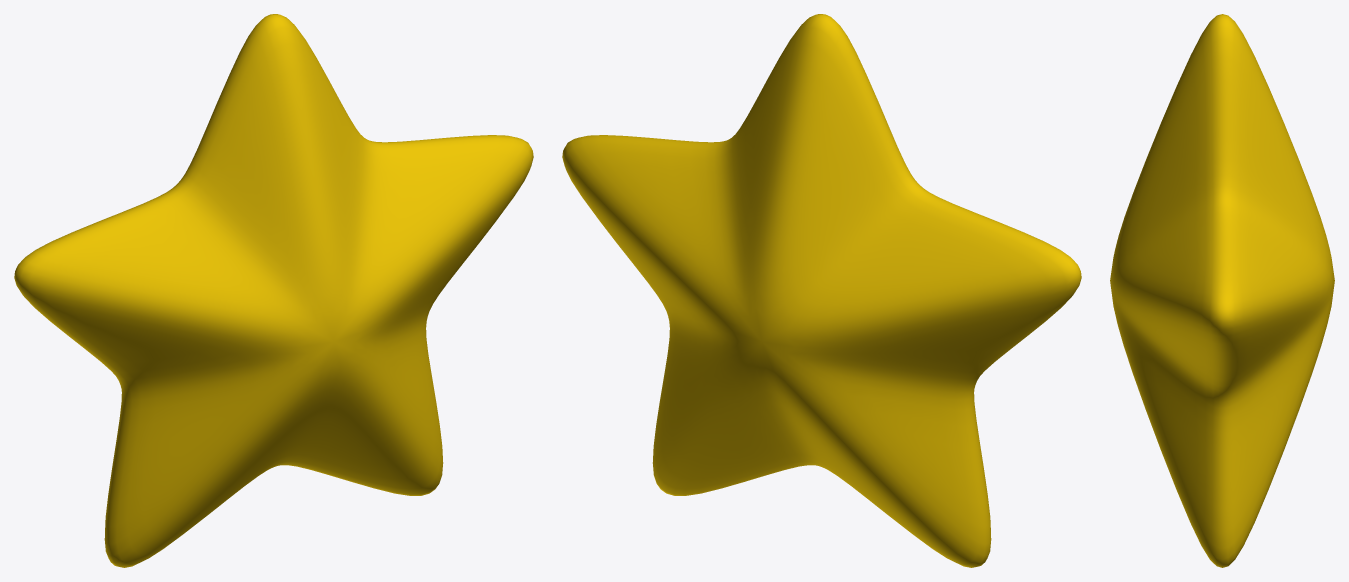
File: star.glb
The picture shows the model from 3 angles, left to right: view 1: azimuth 30°, elevation 25°; view 2: azimuth 150°, elevation 25°; view 3: azimuth 270°, elevation 25°; orthographic projection. The views are drawn at different scales.
Parts seen in each view (by area): view 1: star; view 2: star; view 3: star.
Boxes of the visible parts, <box> form: star: <box>14,14,533,567</box>; star: <box>562,14,1081,567</box>; star: <box>1110,14,1334,567</box>.
Bounding box in the file's own units: 1.5 × 1.43 × 0.6033.
